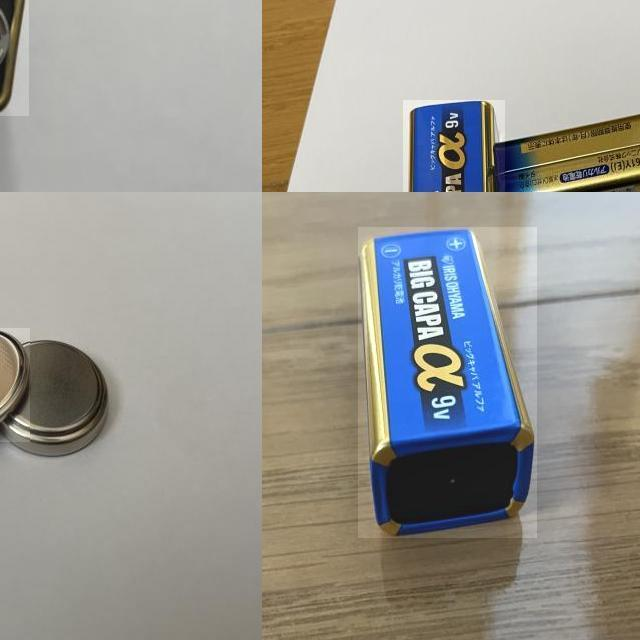9V: (358, 227, 537, 538), (492, 108, 640, 192), (403, 100, 505, 192)
